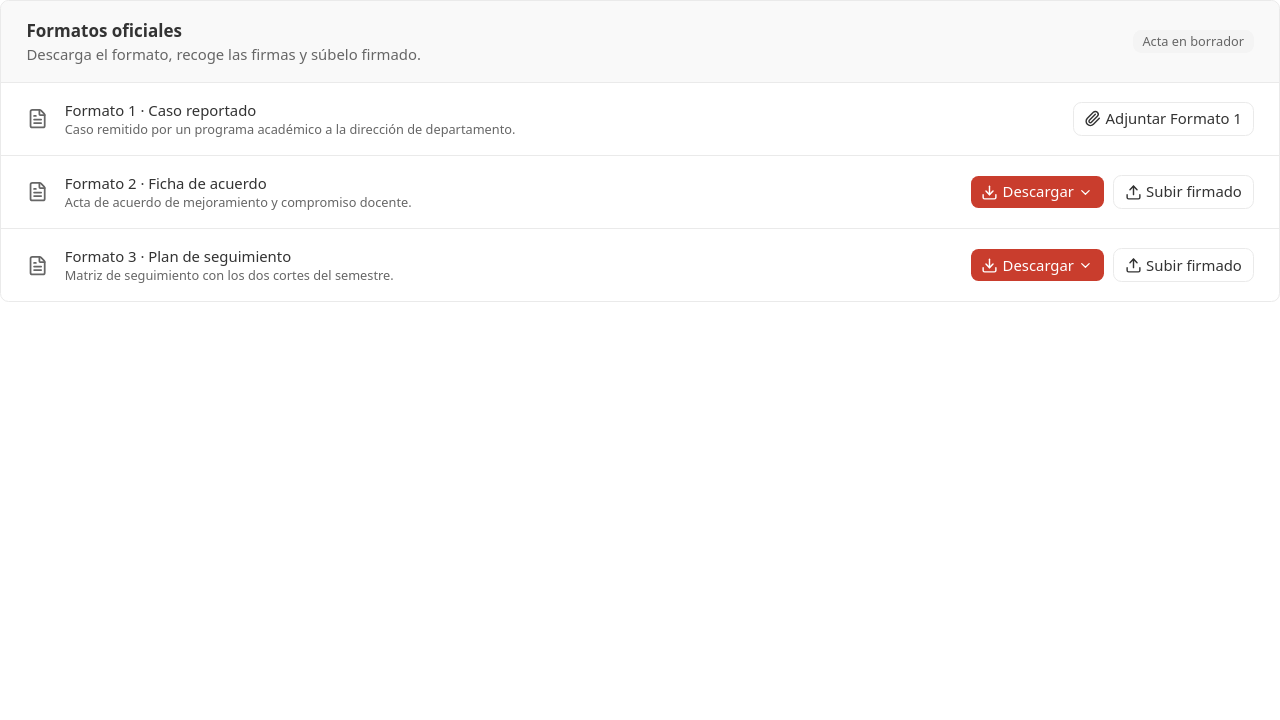
Test: PlanDocuments › el Formato 1 · caso reportado › sigue ofreciendo adjuntarlo cuando el plan se creó sin él
Click the button "Adjuntar Formato 1": [1163, 119] box top-left (1073, 102), bottom-right (1254, 136)
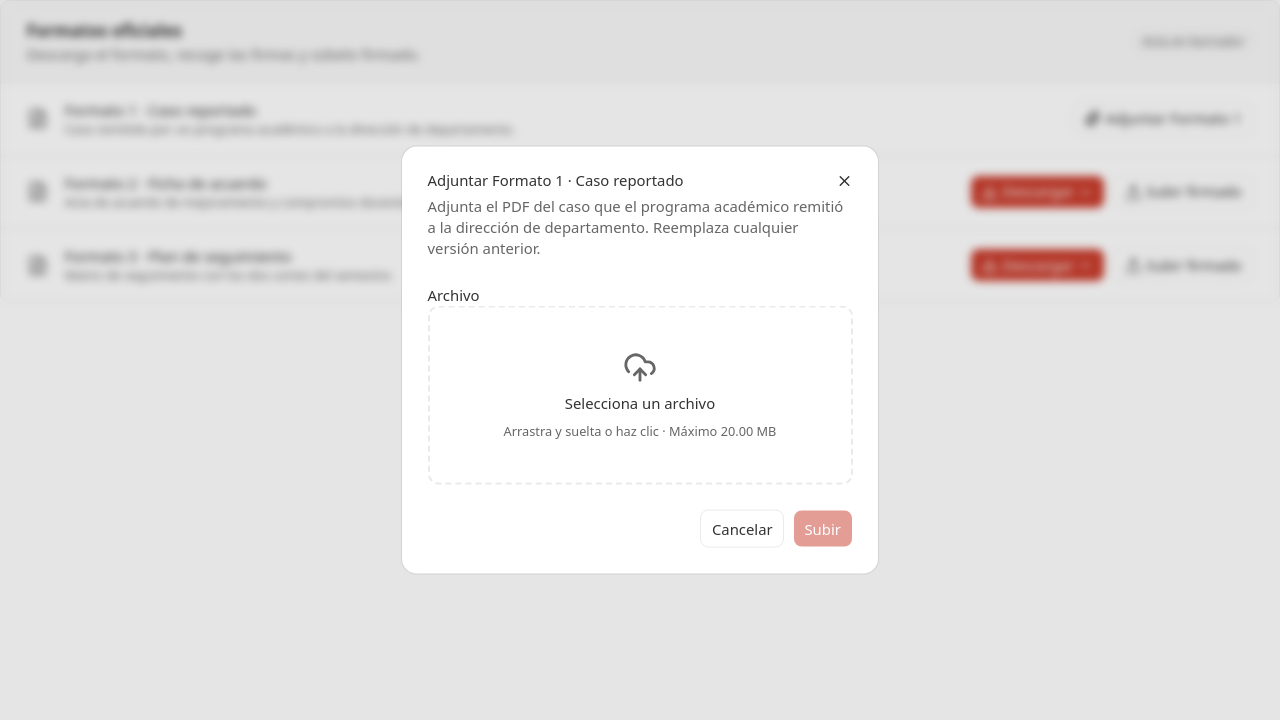
expect the heading "Adjuntar Formato 1 · Caso reportado" is shown: met, box top-left (428, 169), bottom-right (684, 189)
